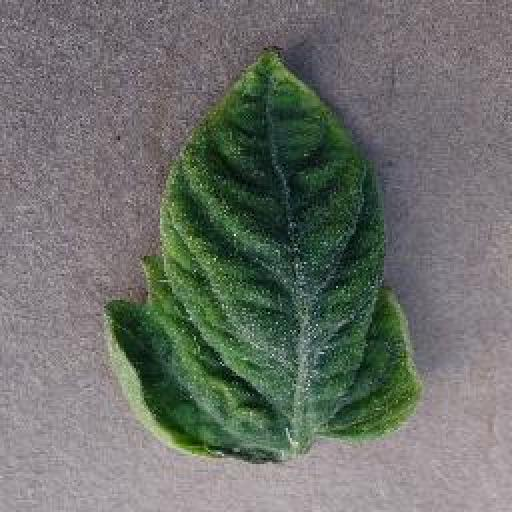disease_tomato: (106, 48, 422, 467)
